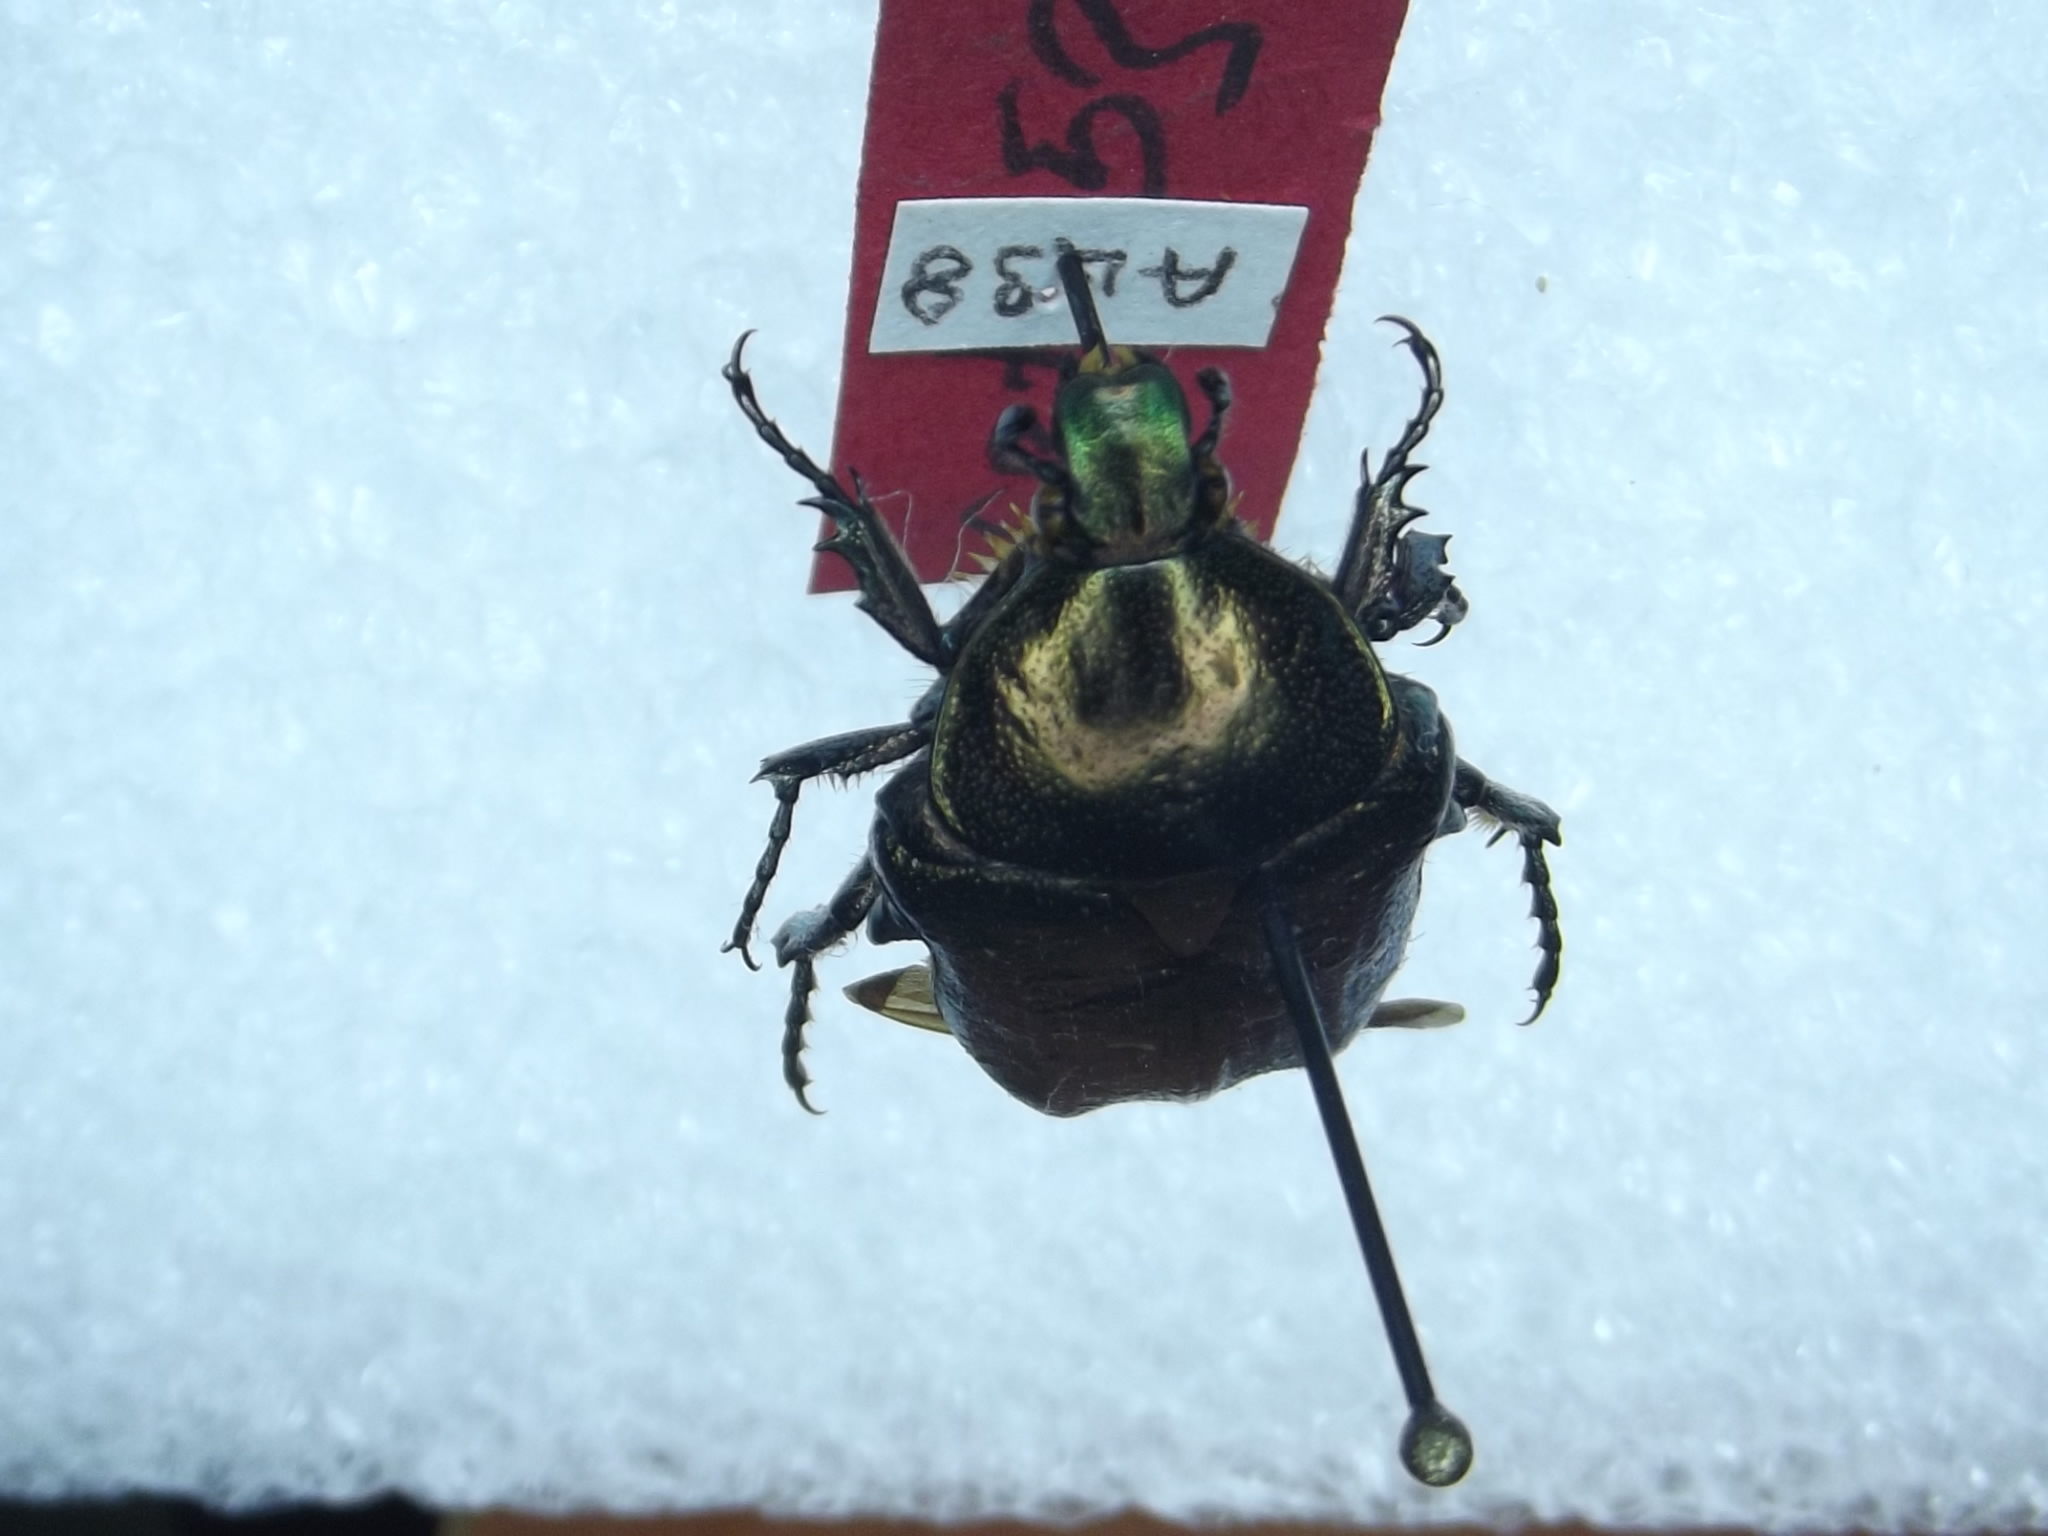Cetonia_kemali: (681, 279, 1598, 1154)
